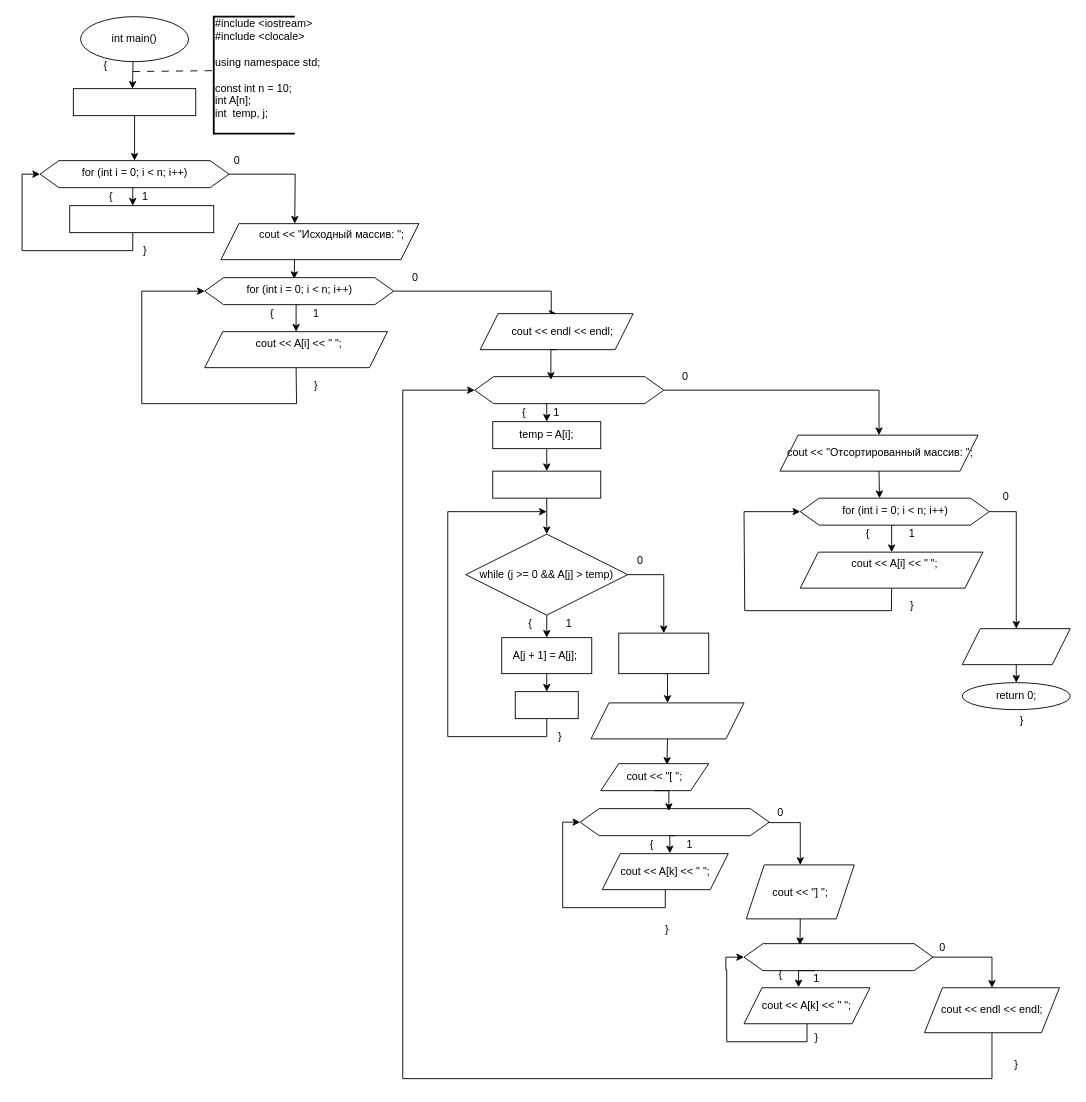
The diagram is 1086 pixels wide and 1102 high, and some of its shapes have lost their labels. Each missing label, with the centre of its shape:
A[i] = rand () % 100 - 50;: the point at 141,219
A[j + 1] = temp;: the point at 663,653
cout << "Шаг " << i << ": ";: the point at 667,720
cout << endl;: the point at 1015,646
for (int i = 1; i < n; i++): the point at 569,390
for (int k = 0; k <= i; k++): the point at 674,822
for (int k = i+1; k < n; k++): the point at 838,957
j = i - 1;: the point at 546,484
j--;: the point at 546,705
setlocale(LC_ALL, "ru");: the point at 134,102
